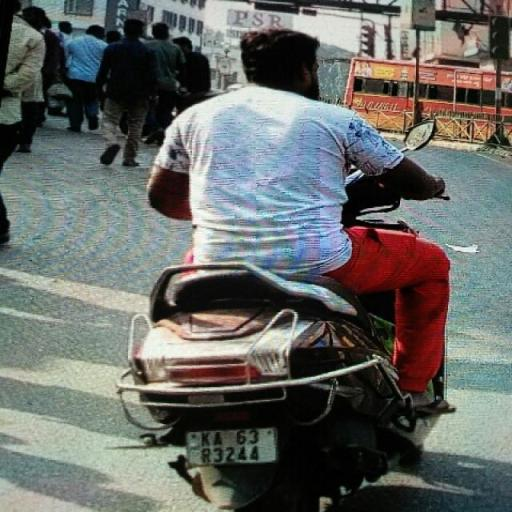bike: (115, 27, 458, 512)
numberplate: (187, 428, 276, 466)
withouthelmet: (241, 31, 320, 88)
